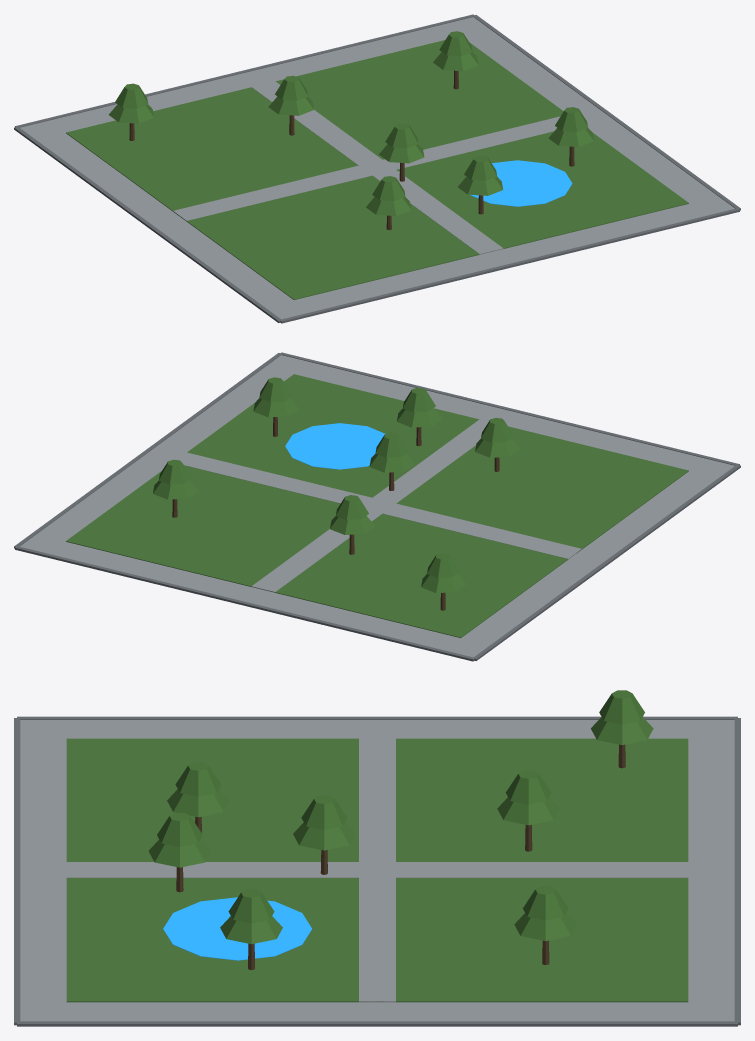
The model's file is block_park.glb.
The picture shows the model from 3 angles, top to bottom: view 1: azimuth 30°, elevation 25°; view 2: azimuth 150°, elevation 25°; view 3: azimuth 270°, elevation 25°; orthographic projection. The views are drawn at different scales.
Parts seen in each view (by area): view 1: BlockPark; view 2: BlockPark; view 3: BlockPark.
Boxes of the visible parts, <box> form: BlockPark: <box>14,14,740,323</box>; BlockPark: <box>14,352,740,661</box>; BlockPark: <box>14,690,740,1026</box>.
Bounding box in the file's own units: 58.5 × 6.97 × 58.5.
